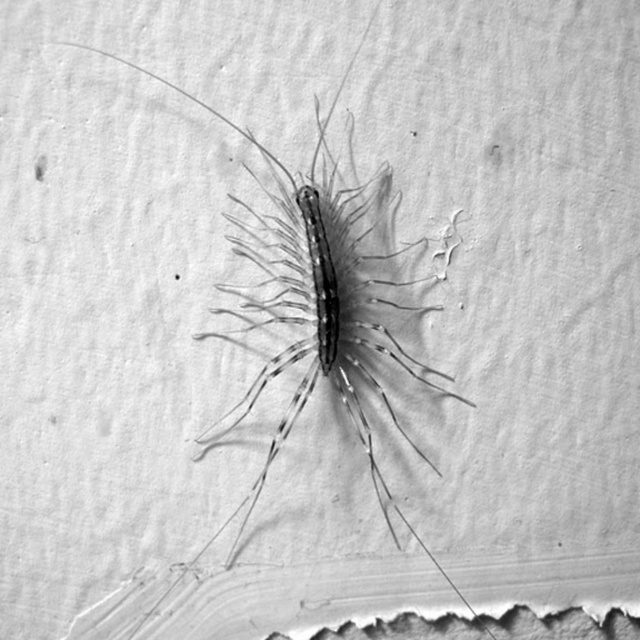Centipede: (38, 0, 499, 639)
